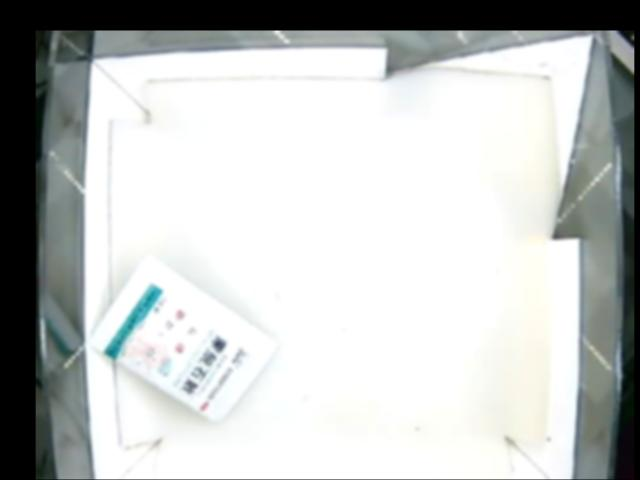Medicine: (91, 256, 277, 423)
